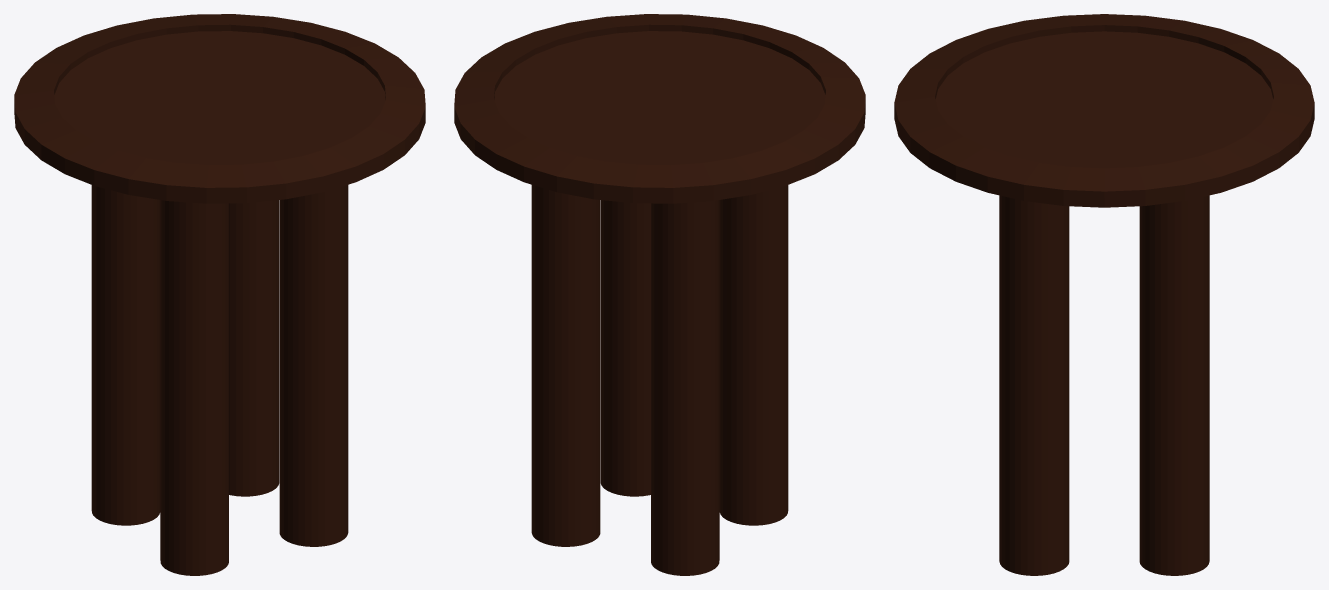
The model's file is SideTable.fbx.
The picture shows the model from 3 angles, left to right: view 1: azimuth 30°, elevation 25°; view 2: azimuth 150°, elevation 25°; view 3: azimuth 270°, elevation 25°; orthographic projection.
Visible parts, largest first — view 1: SideTable; view 2: SideTable; view 3: SideTable.
Part boxes in pixels (x1,y1,x2,y2): SideTable: (14,14,425,575); SideTable: (454,14,865,575); SideTable: (894,14,1314,575).
Size of the model in its own units: 1200 by 1370 by 1200.
